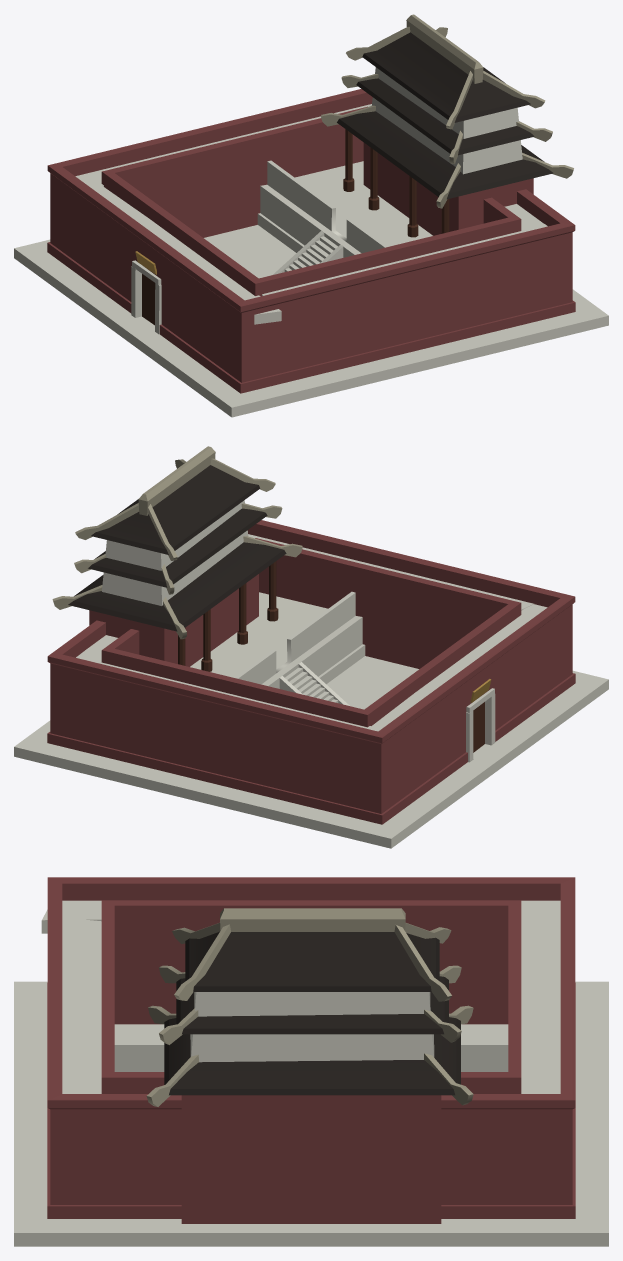
File: fangzi_lv1.fbx
3 renders of one model, top to bottom at view 1: azimuth 30°, elevation 25°; view 2: azimuth 150°, elevation 25°; view 3: azimuth 270°, elevation 25°, orthographic. The views are drawn at different scales.
Visible parts, largest first — view 1: chengqiang_1, diban, neichengqiang, wuding_5, wuding_7, pCube25, pCube44, wuding_4, diban1, pCube38, diban2, diban3 (+3 smaller); view 2: chengqiang_1, diban, neichengqiang, wuding_7, wuding_5, pCube25, pCube44, wuding_4, diban1, pCube38, diban3, diban2 (+2 smaller); view 3: chengqiang_1, pCube25, diban, wuding_5, pCube44, wuding_7, diban2, diban3, wuding_4, pCube38, neichengqiang, diban1 (+6 smaller).
Boxes of the visible parts, box(x1,y1,x2,y2) form: chengqiang_1: box(47, 89, 575, 393); diban: box(14, 225, 608, 417); neichengqiang: box(257, 160, 432, 257); wuding_5: box(362, 32, 530, 122); wuding_7: box(337, 111, 553, 199); pCube25: box(363, 142, 533, 235); pCube44: box(371, 67, 522, 174); wuding_4: box(356, 78, 534, 155); diban1: box(75, 174, 281, 324); pCube38: box(406, 14, 483, 83); diban2: box(85, 104, 371, 188); diban3: box(262, 224, 547, 295); chengqiang_1: box(47, 520, 575, 824); diban: box(14, 656, 608, 848); neichengqiang: box(190, 591, 365, 688); wuding_7: box(68, 542, 286, 631); wuding_5: box(91, 465, 260, 554); pCube25: box(89, 574, 258, 666); pCube44: box(102, 500, 248, 605); wuding_4: box(88, 508, 267, 587); diban1: box(368, 604, 547, 731); pCube38: box(138, 446, 215, 515); diban3: box(248, 534, 533, 610); diban2: box(106, 664, 375, 729); chengqiang_1: box(47, 877, 575, 1218); pCube25: box(181, 1095, 441, 1223); diban: box(14, 981, 608, 1246); wuding_5: box(185, 931, 439, 991); pCube44: box(190, 992, 434, 1062); wuding_7: box(164, 1017, 460, 1095); diban2: box(521, 909, 560, 1093); diban3: box(62, 917, 101, 1093); wuding_4: box(176, 976, 448, 1034); pCube38: box(220, 908, 405, 931); neichengqiang: box(114, 1042, 508, 1071); diban1: box(41, 900, 560, 933).
Size of the model in its own units: 28.48 by 15.26 by 27.36.
